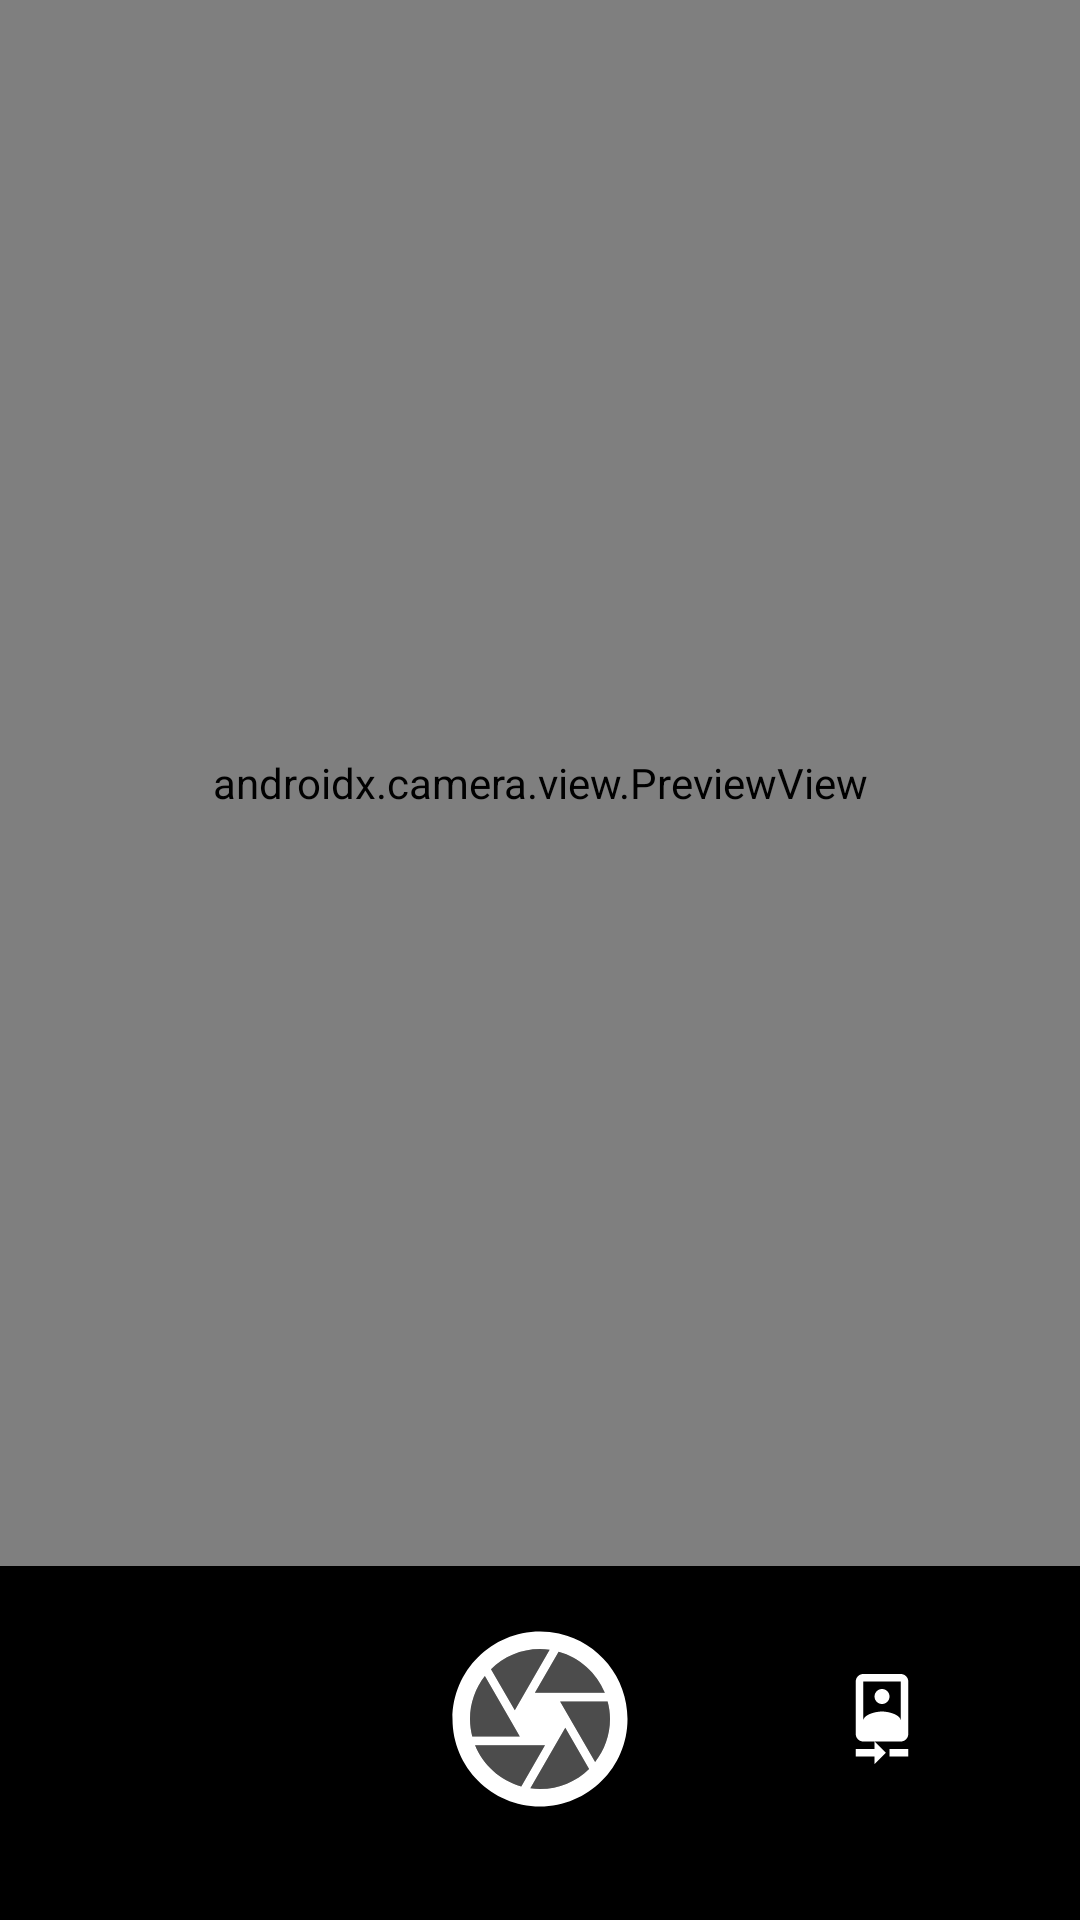

Screen size 1080 × 1920. Icon name, then its box in pixels as (x1, y1, x2, y2):
camera front: (855, 1674, 909, 1764)
